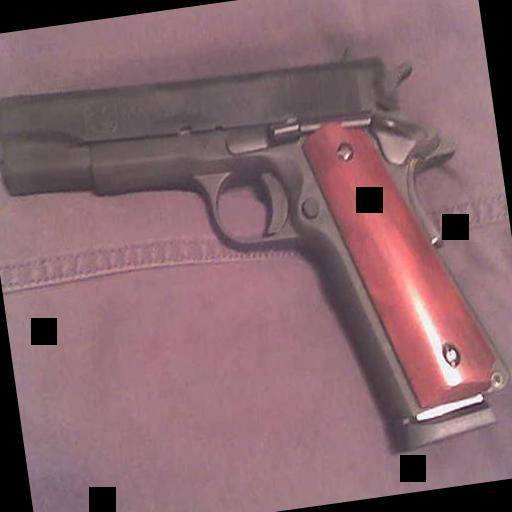Handgun: (0, 26, 512, 496)
